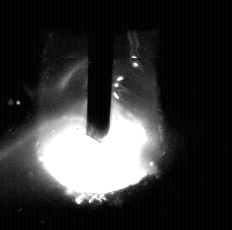arame: (88, 0, 112, 143)
poca: (36, 0, 164, 230)
